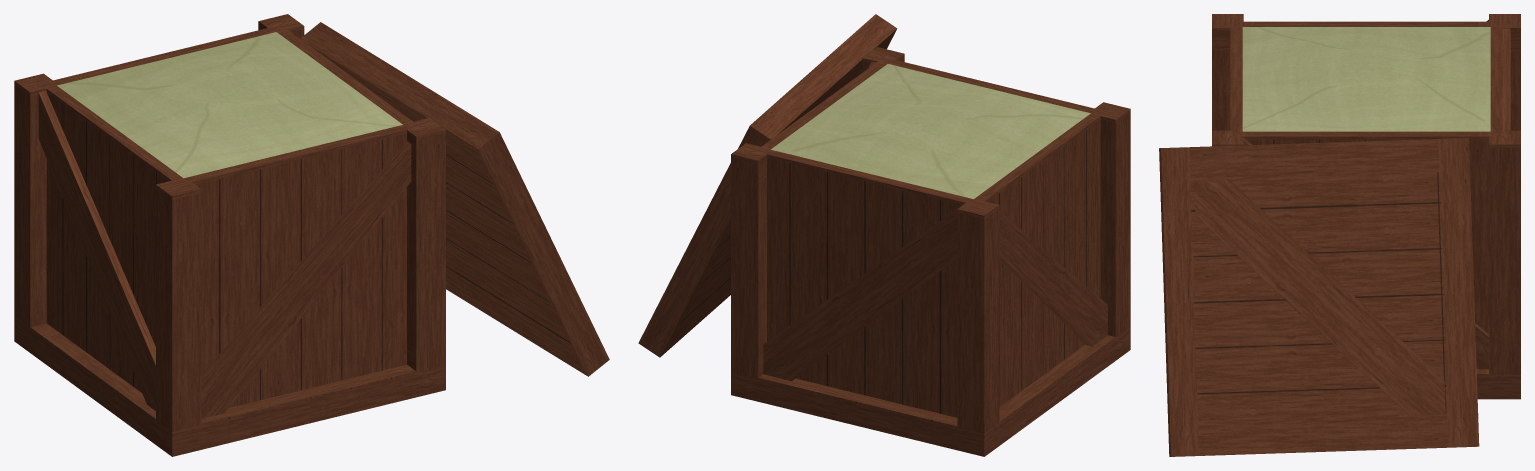
Rendered from CrateOpen.FBX.
3 views of the same model, side by side, from view 1: azimuth 30°, elevation 25°; view 2: azimuth 150°, elevation 25°; view 3: azimuth 270°, elevation 25° (orthographic). The views are drawn at different scales.
Visible parts, largest first — view 1: Crate; view 2: Crate; view 3: Crate.
Part boxes in pixels (x1,y1,x2,y2): Crate: [14, 14, 609, 456]; Crate: [638, 14, 1130, 456]; Crate: [1159, 14, 1520, 456].
Size of the model in its own units: 44.16 by 28.45 by 33.97.
